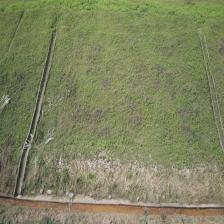slope_drain: (14, 26, 57, 198), (199, 29, 224, 151)
toe_drain: (0, 195, 224, 216)
